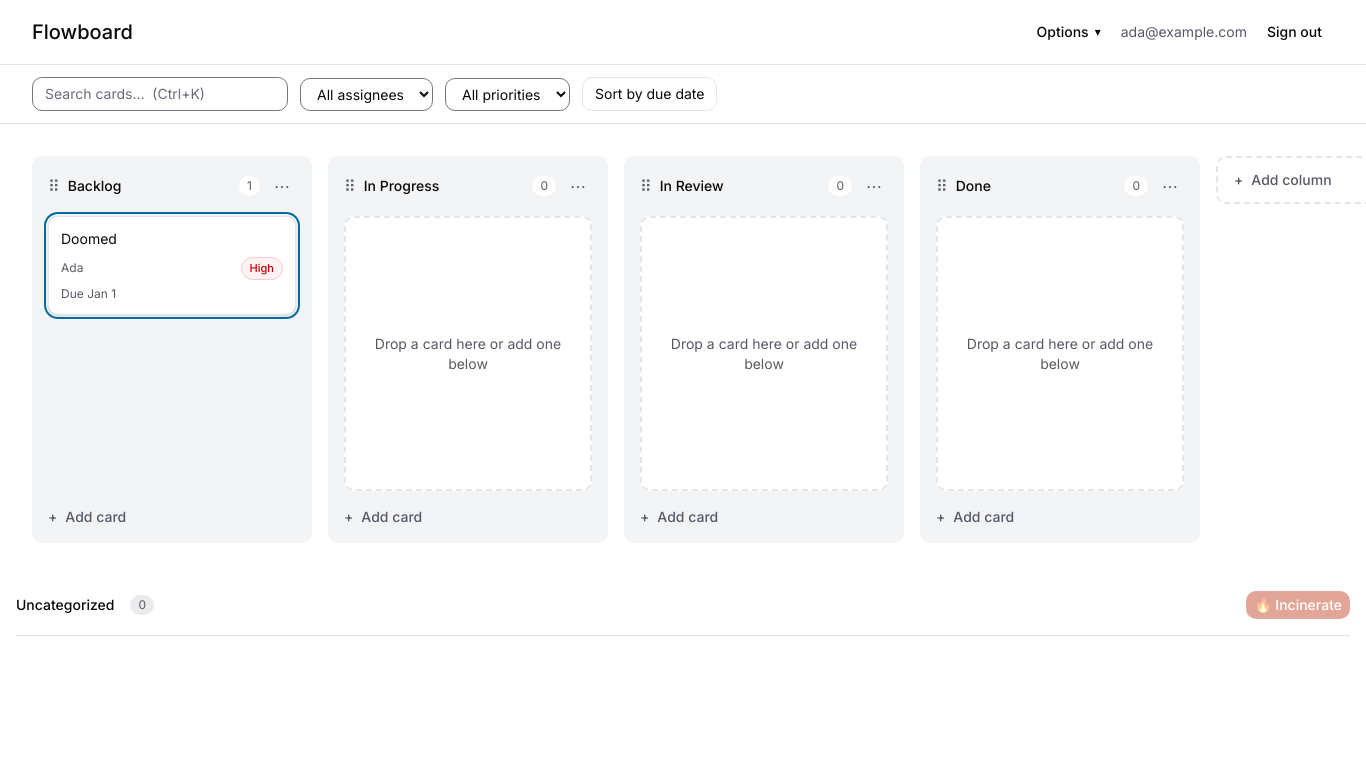
Test case: Board: deleting cards › deletes from the modal and can undo
Press Enter
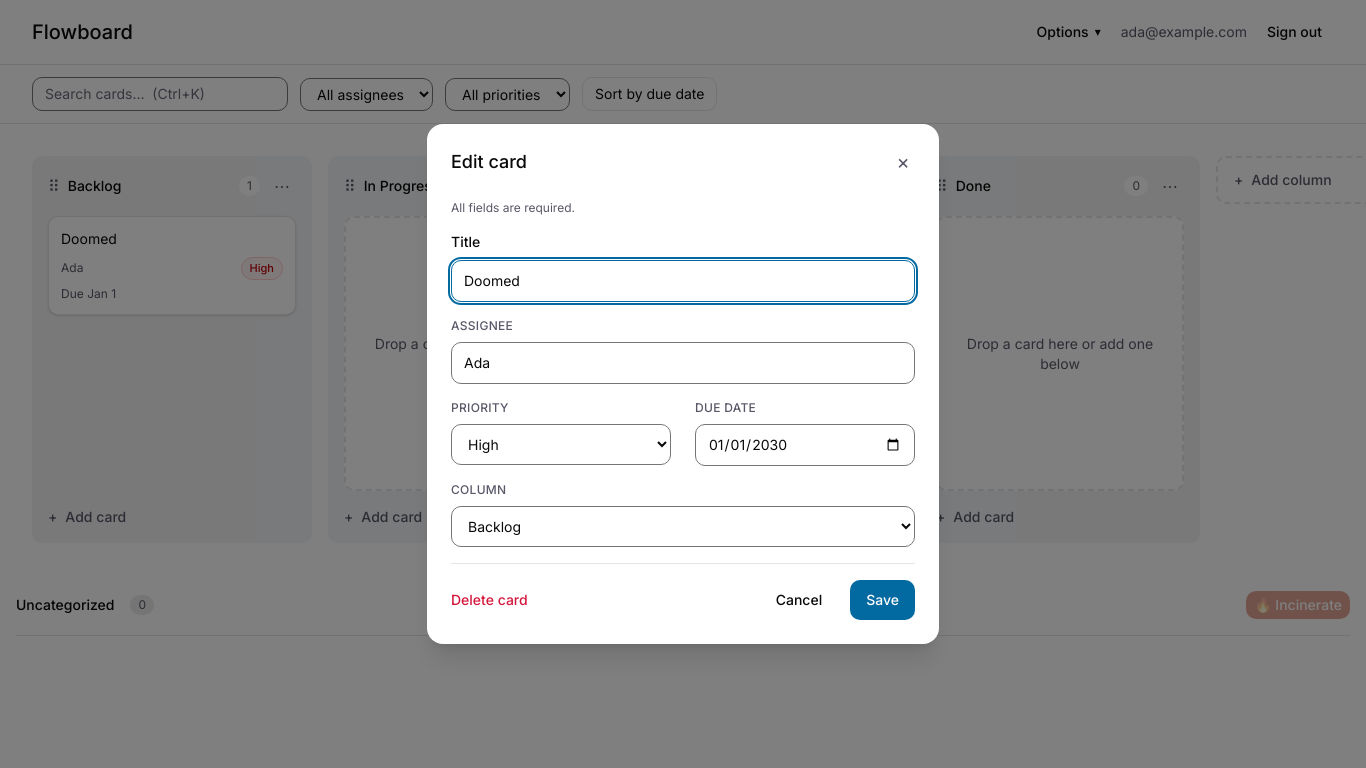
Click the button "Delete card" at (489, 600), box x1=451 y1=590 x2=528 y2=610
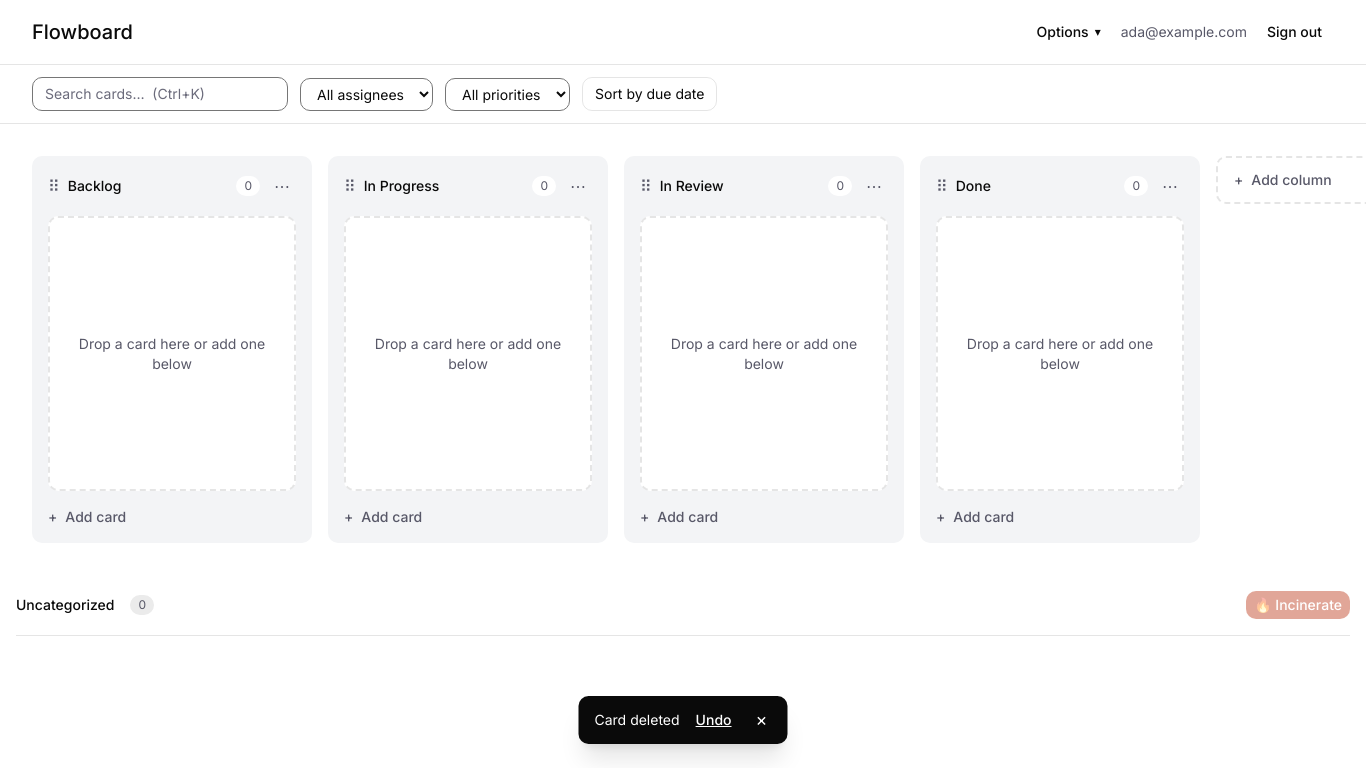
Expected: the button "Doomed" is gone
Click the button "Undo" at (714, 720), box x1=696 y1=710 x2=732 y2=730
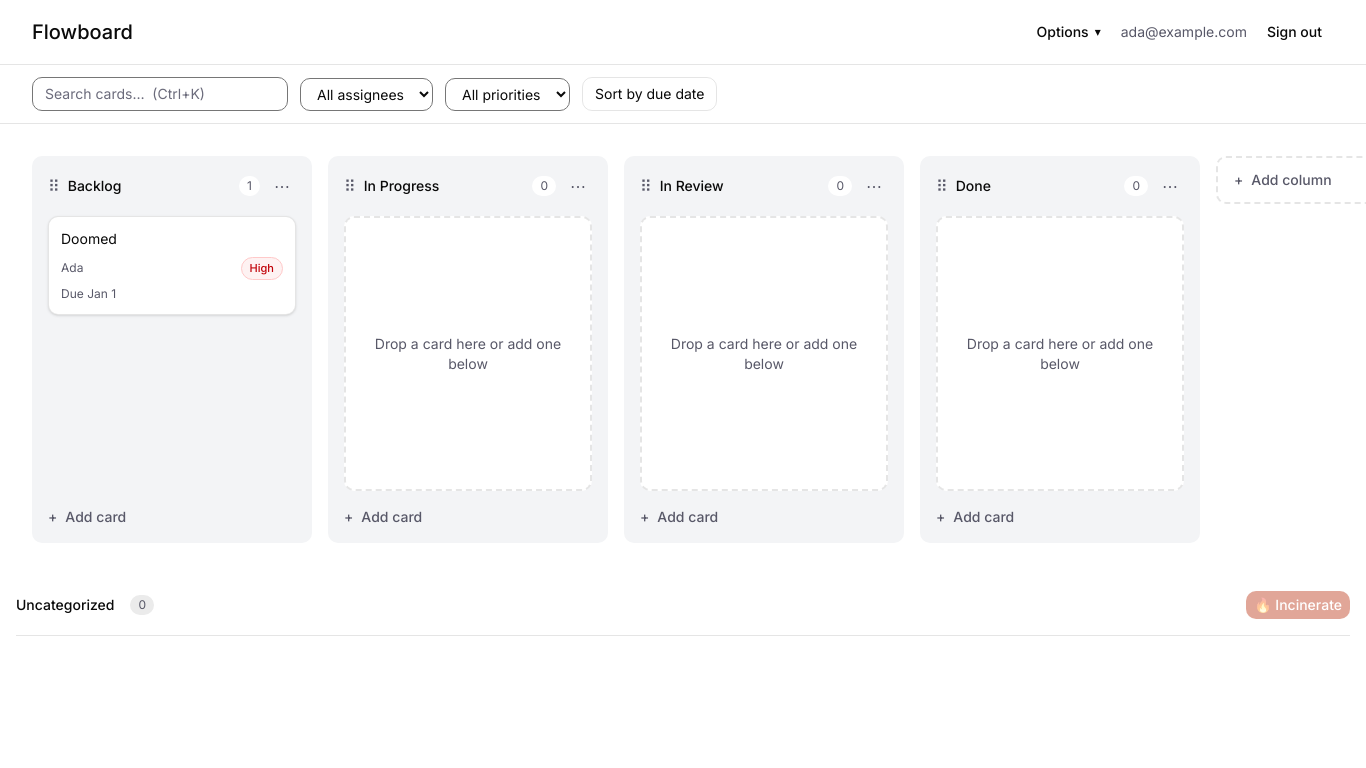
Expected: the text "Doomed" is shown, x1=61 y1=230 x2=117 y2=247
